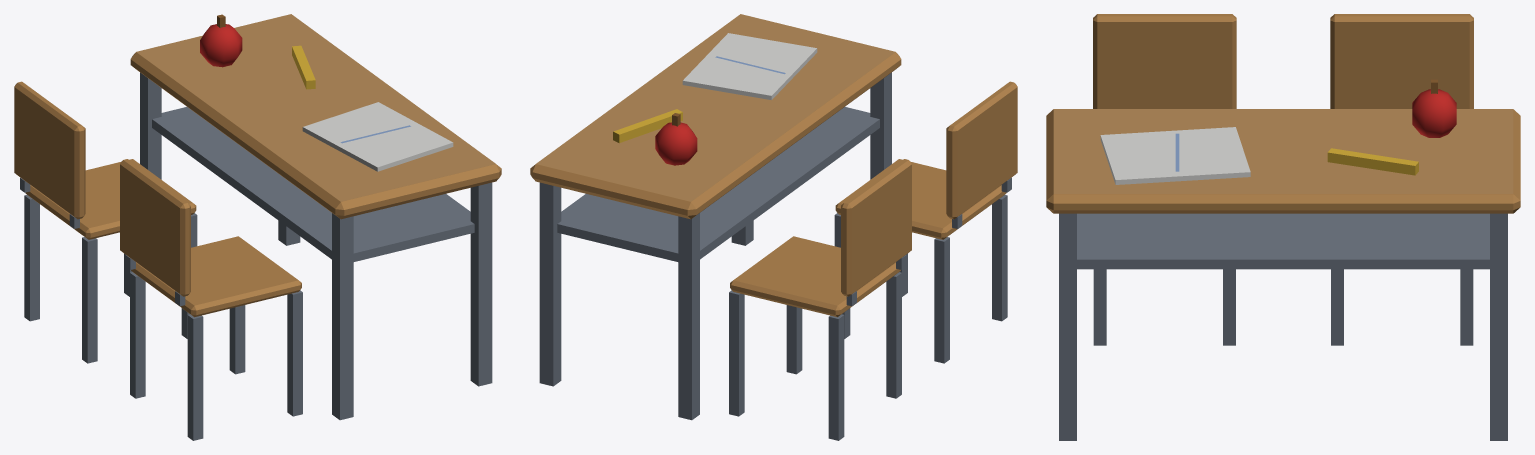
File: school-prop1.glb
3 renders of one model, left to right at view 1: azimuth 30°, elevation 25°; view 2: azimuth 150°, elevation 25°; view 3: azimuth 270°, elevation 25°, orthographic. The views are drawn at different scales.
Visible parts, largest first — view 1: school-prop1; view 2: school-prop1; view 3: school-prop1.
Part boxes in pixels (x1,y1,x2,y2): school-prop1: (14, 14, 501, 440); school-prop1: (530, 14, 1017, 440); school-prop1: (1046, 14, 1520, 440).
Bounding box in the file's own units: 1.09 × 0.93 × 1.32.
